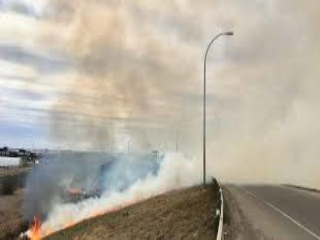fire: (21, 216, 45, 238)
smoke: (49, 150, 206, 219)
